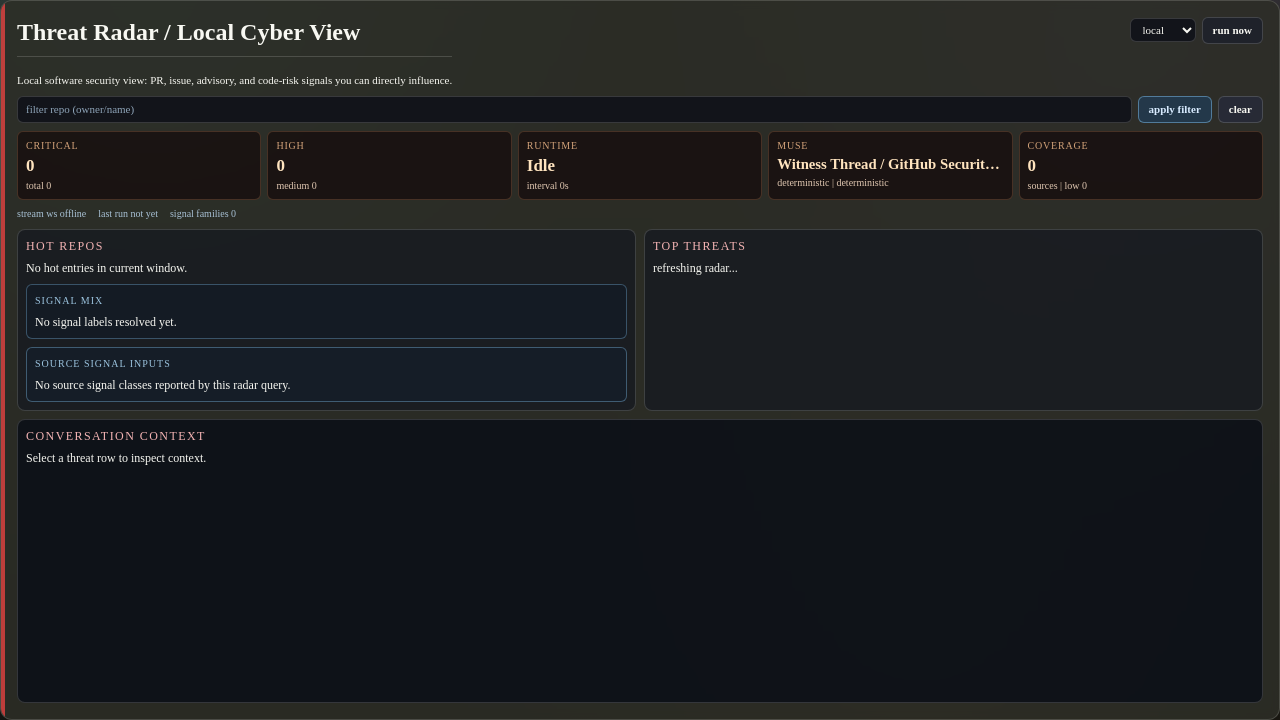
Test: ThreatRadarPanel › ignores stale local report responses after switching back to global
The image size is (1280, 720).
Select "local" in the dropdown at coordinates (1163, 30), box [1130, 18, 1196, 42]
Select "global" in the dropdown at coordinates (1163, 30), box [1130, 18, 1196, 42]
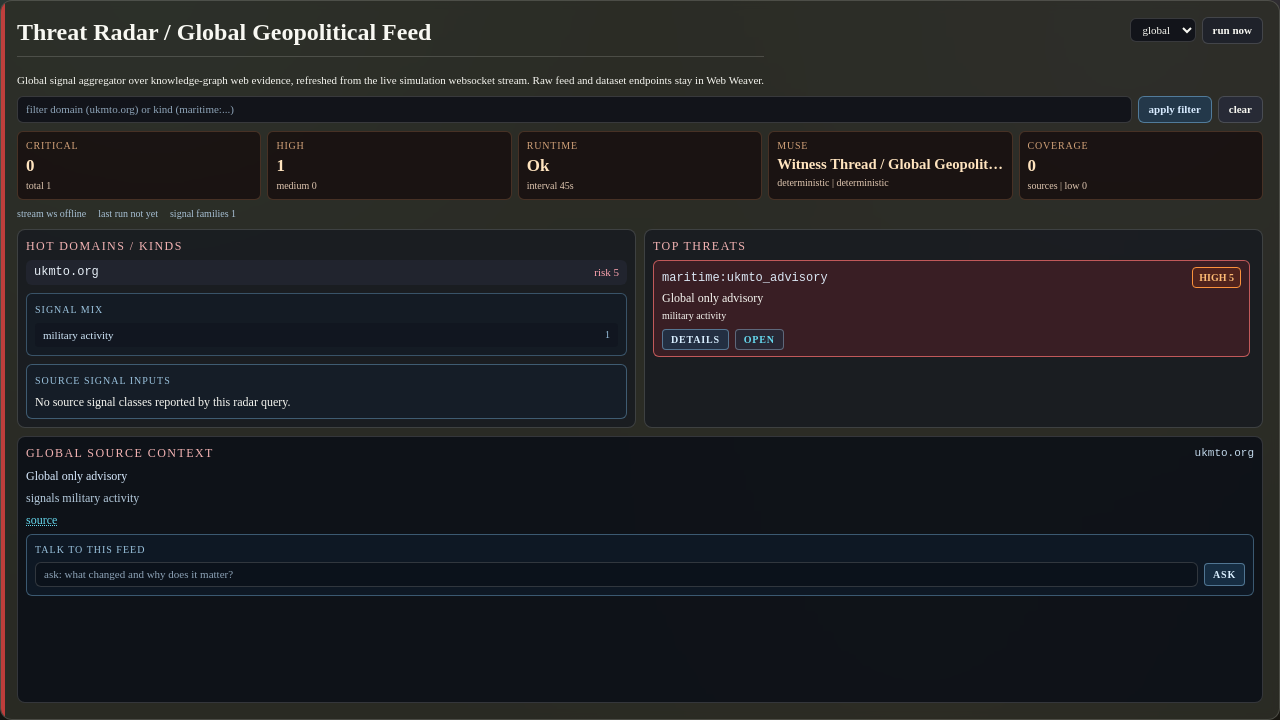
Expected: the heading "Threat Radar / Global Geopolitical Feed" is shown, [17, 17, 764, 57]
Expected: the text "Global only advisory" below "maritime:ukmto_advisory" is shown, [662, 291, 763, 305]
